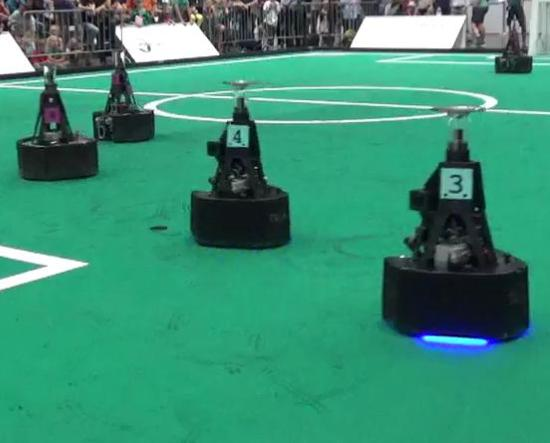robot: (381, 99, 533, 351), (188, 73, 294, 249), (13, 60, 97, 180), (89, 46, 157, 144)
